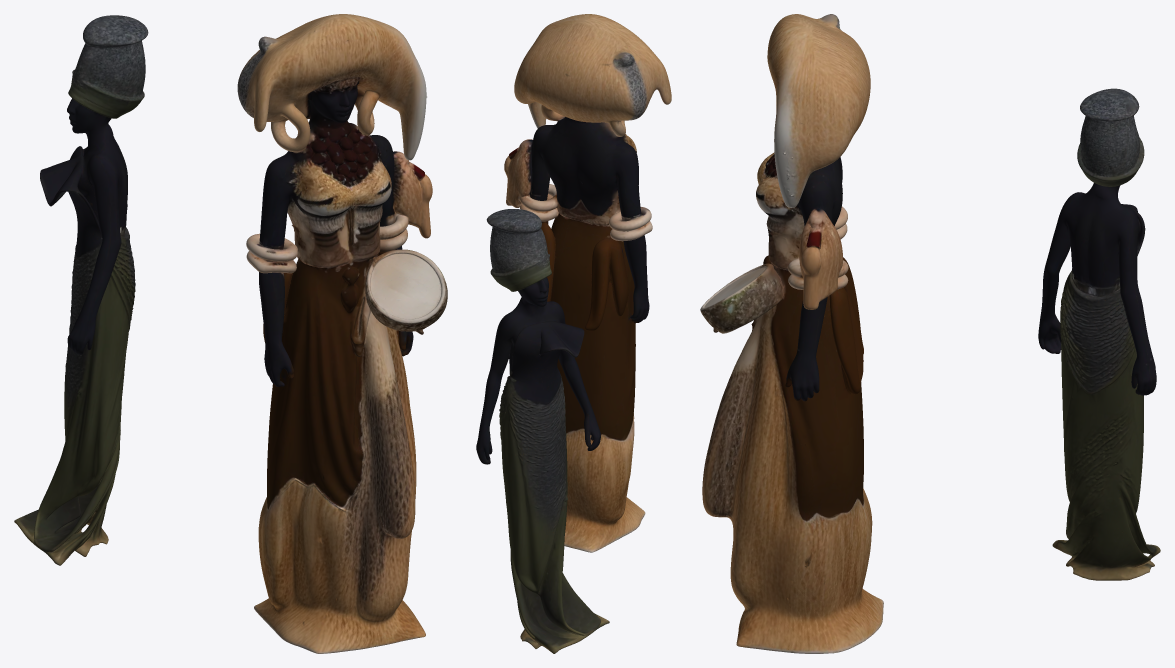
File: femme_ch1.glb
The picture shows the model from 3 angles, left to right: view 1: azimuth 30°, elevation 25°; view 2: azimuth 150°, elevation 25°; view 3: azimuth 270°, elevation 25°; orthographic projection. The views are drawn at different scales.
Visible parts, largest first — view 1: material; view 2: material; view 3: material.
Part boxes in pixels (<box>): material: <box>14,14,447,653</box>; material: <box>476,14,671,653</box>; material: <box>700,14,1160,653</box>.
Bounding box in the file's own units: 0.4106 × 0.9538 × 0.6652.
1 material, 1 textured.
